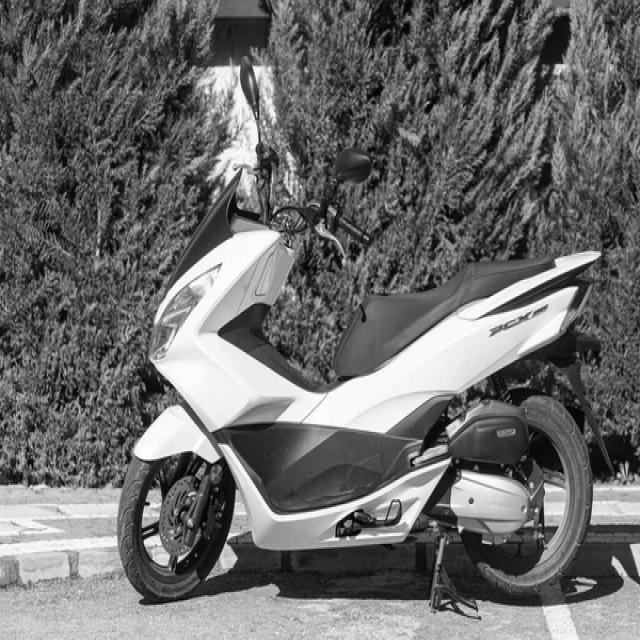Motorcycle: (118, 144, 600, 602)
